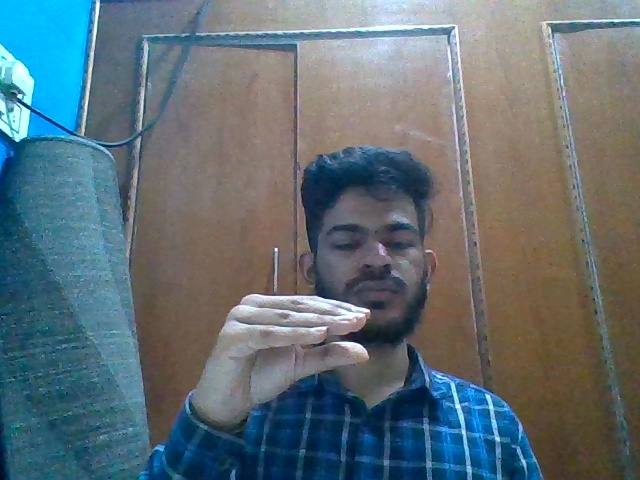no: (194, 289, 388, 439)
